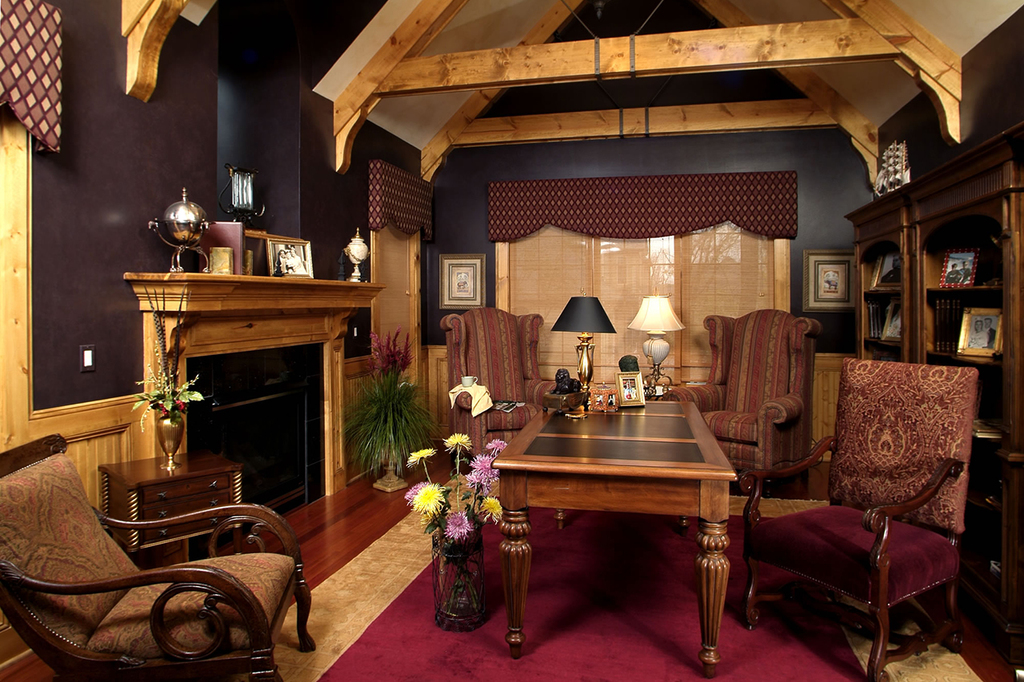door: (370, 158, 440, 470)
small_sofa: (739, 325, 996, 682), (1, 400, 318, 682), (659, 290, 826, 527), (441, 280, 600, 449)
